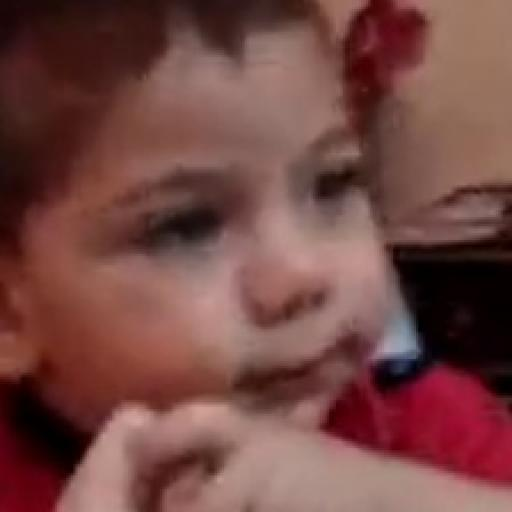Autism: (10, 5, 474, 462)
